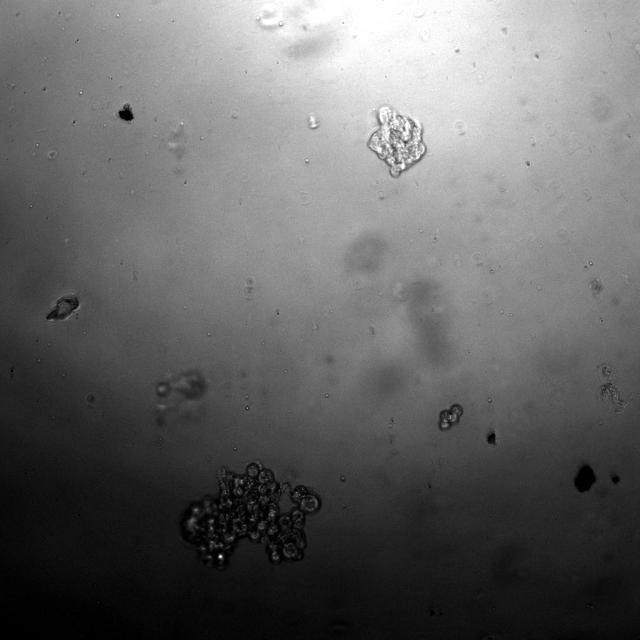organoid: (182, 462, 321, 567), (368, 106, 426, 177), (156, 369, 206, 399), (46, 296, 79, 320), (438, 403, 462, 431), (574, 465, 596, 492), (487, 431, 496, 446)
